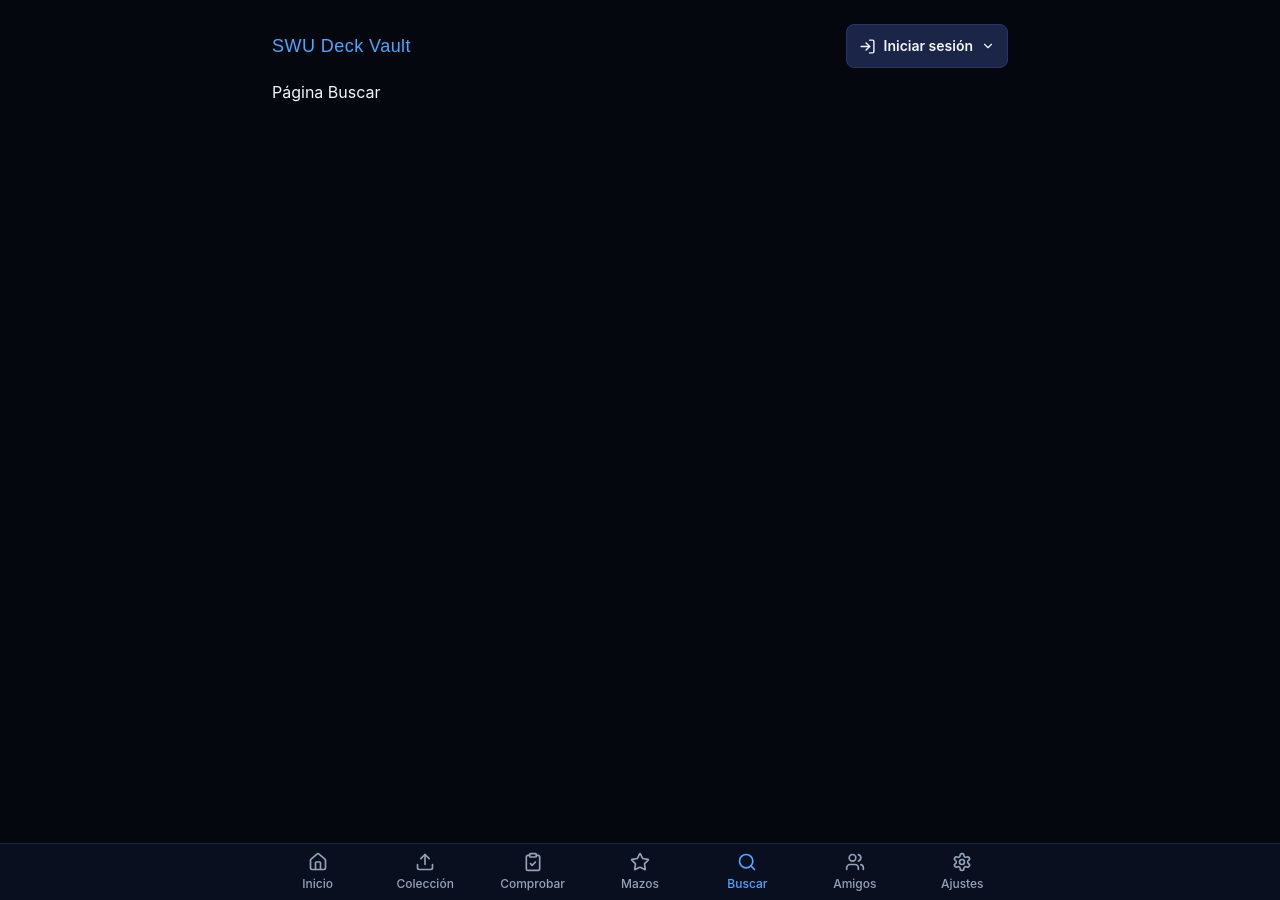
Test: acceso desde la cabecera › vuelve desde Buscar al mazo en curso al pulsar la navegación Mazos
Expected: the text "Página Buscar" is shown, x1=272 y1=82 x2=380 y2=102
Click the link with aria-label "Mazos, continuar Mazo de navegación".
click(640, 872)  # box x1=621 y1=852 x2=659 y2=891
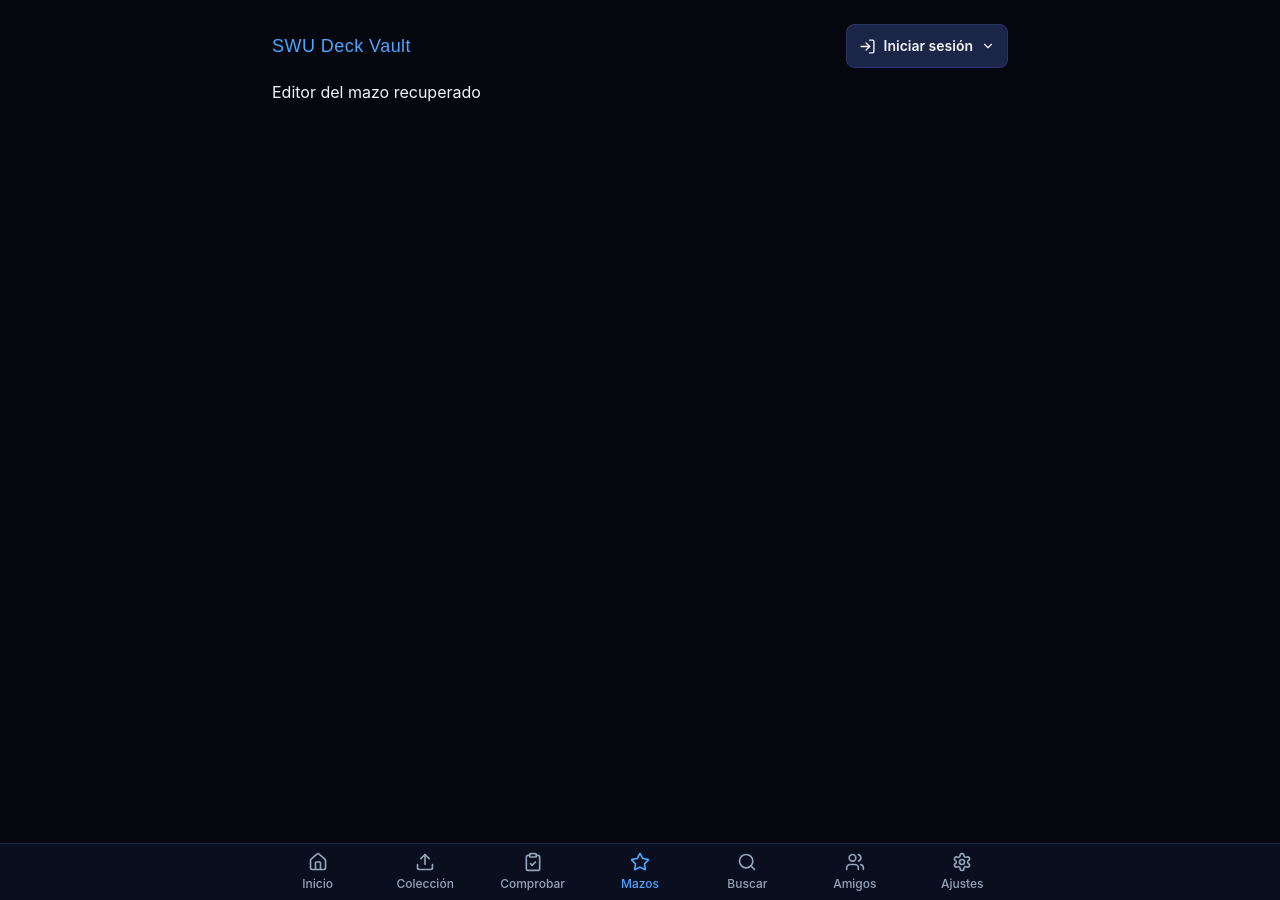
Now the text "Editor del mazo recuperado" is shown, box x1=272 y1=82 x2=481 y2=102
